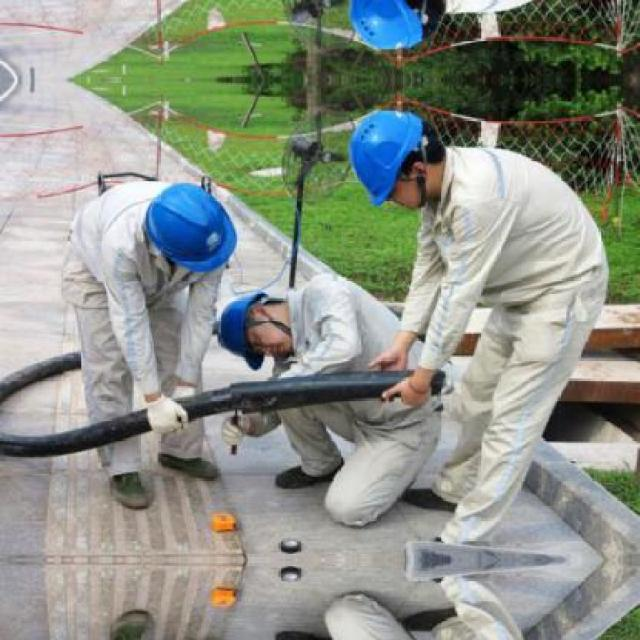helmet: (334, 99, 448, 221), (142, 183, 233, 282), (211, 292, 309, 372), (334, 0, 449, 62)
